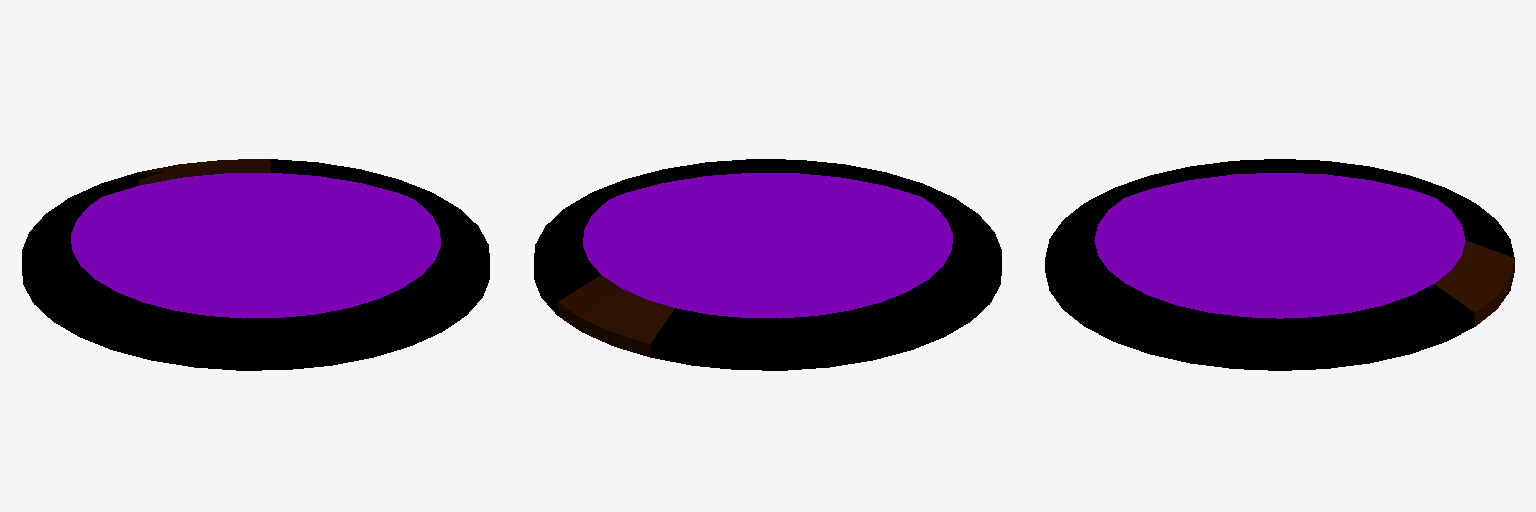
File: reset_button_body.obj
3 renders of one model, left to right at view 1: azimuth 30°, elevation 25°; view 2: azimuth 150°, elevation 25°; view 3: azimuth 270°, elevation 25°, orthographic.
Visible parts, largest first — view 1: reset_button_body; view 2: reset_button_body; view 3: reset_button_body.
Boxes of the visible parts, box(x1,y1,x2,y2) form: reset_button_body: box(22, 159, 489, 370); reset_button_body: box(534, 159, 1001, 370); reset_button_body: box(1045, 159, 1514, 370).
Size of the model in its own units: 0.0208 by 0.0015 by 0.0208.